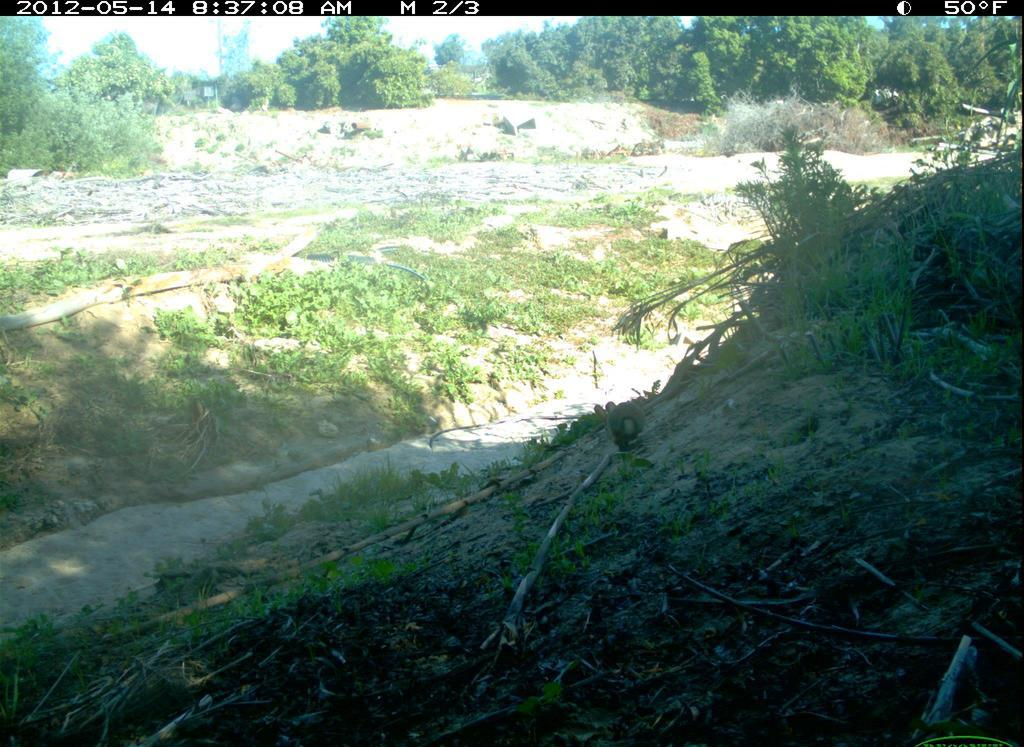rabbit: (589, 400, 655, 454)
